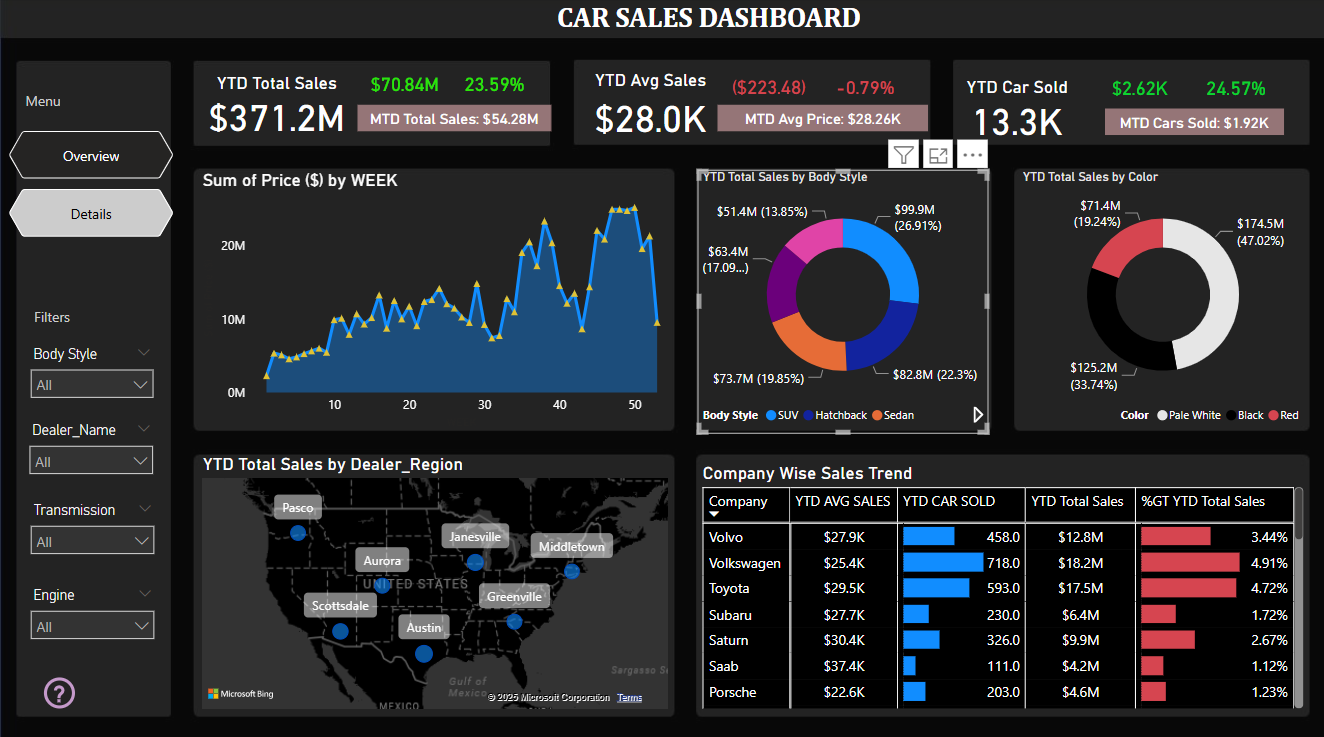

The page's visual inventory and layout, read from the dashboard file:
{"tool":"powerbi","page":{"name":"Overview","canvas":[1280,720],"ordinal":0},"visuals":[{"type":"textbox","box":[414.4,0,540.7,48],"z":0},{"type":"card","title":"YTD Total Sales","fields":{"Values":["car_data.YTD Total Sales"]},"box":[190.6,73.6,153.2,62.7],"z":1000},{"type":"slicer","fields":{"Values":["car_data.Body Style"]},"box":[19.3,331.8,138.7,56.7],"z":2000},{"type":"slicer","fields":{"Values":["car_data.Dealer_Name"]},"box":[18.1,405.4,139.9,62.7],"z":3000},{"type":"slicer","fields":{"Values":["car_data.Transmission"]},"box":[19.3,482.6,139.9,62.7],"z":4000},{"type":"slicer","fields":{"Values":["car_data.Engine"]},"box":[19.3,564.6,139.9,62.7],"z":5000},{"type":"donutChart","fields":{"Category":["car_data.Body Style"],"Y":["car_data.YTD Total Sales"]},"box":[673.2,167.7,281.1,254.6],"z":6000},{"type":"donutChart","fields":{"Y":["car_data.YTD Total Sales"],"Category":["car_data.Color"]},"box":[982,167.7,281.1,254.6],"z":7000},{"type":"card","fields":{"Values":["car_data.Sales Diff"]},"box":[352.3,71.2,77.2,25.3],"z":8000},{"type":"card","fields":{"Values":["car_data.yoy sales growth"]},"box":[439.1,71.2,76,25.3],"z":9000},{"type":"card","fields":{"Values":["car_data.MTD combine"]},"box":[345,105,187,25.3],"z":10000},{"type":"card","title":"YTD Avg Sales","fields":{"Values":["car_data.YTD AVG SALES"]},"box":[556.2,71.2,143.6,68.8],"z":11000},{"type":"card","fields":{"Values":["car_data.average sales diff"]},"box":[699.5,73.1,84.8,31.3],"z":12000},{"type":"card","fields":{"Values":["car_data.yoy avg growth"]},"box":[800.5,73.4,69.8,25.7],"z":13000},{"type":"card","fields":{"Values":["car_data.MTD AVG COMBINE"]},"box":[692.8,105.3,203.2,25.7],"z":14000},{"type":"card","title":"YTD Car Sold","fields":{"Values":["car_data.YTD CAR SOLD"]},"box":[918,77.1,127.3,62.4],"z":15000},{"type":"card","fields":{"Values":["car_data.CAR SOLD DIFF"]},"box":[1061.2,73.4,77.1,31.8],"z":16000},{"type":"card","fields":{"Values":["car_data.YOY CAR SOLD GROWTH"]},"box":[1153,73.4,79.6,31.8],"z":17000},{"type":"card","fields":{"Values":["car_data.MTD CAR SOLD COMBINE"]},"box":[1066.5,108.6,172.5,25.3],"z":18000},{"type":"pivotTable","title":"Company Wise Sales Trend","fields":{"Rows":["car_data.Company"],"Values":["car_data.YTD AVG SALES","car_data.YTD CAR SOLD","car_data.YTD Total Sales","Divide(car_data.YTD Total Sales, ScopedEval(car_data.YTD Total Sales, []))"]},"box":[672.6,450.1,590.1,242.5],"z":19000},{"type":"map","fields":{"Category":["car_data.Dealer_Region"],"Size":["car_data.YTD Total Sales"]},"box":[190,441.3,458.8,251.3],"z":20000},{"type":"areaChart","fields":{"Category":["calendar table.WEEK"],"Y":["Sum(car_data.Price ($))"]},"box":[190,167.5,458.8,255.1],"z":21000},{"type":"actionButton","box":[37.5,652.6,100,40],"z":22000},{"type":"pageNavigator","box":[8.4,130.3,159.3,103.8],"z":23000},{"type":"textbox","box":[27.7,295.6,74.8,30.2],"z":24000},{"type":"textbox","box":[8.4,86.9,74.8,33.8],"z":25000}]}

Visuals, with their boxes in screenshot pixels (x1, y1, x2, y2), scaled from the page's 1280x720 canvas onto the 1324x737 screenshot:
textbox: bbox=(429, 0, 988, 49)
"YTD Total Sales" card: bbox=(197, 75, 356, 140)
slicer - car_data.Body Style: bbox=(20, 340, 163, 398)
slicer - car_data.Dealer_Name: bbox=(19, 415, 163, 479)
slicer - car_data.Transmission: bbox=(20, 494, 165, 558)
slicer - car_data.Engine: bbox=(20, 578, 165, 642)
donutChart - car_data.Body Style x car_data.YTD Total Sales: bbox=(696, 172, 987, 432)
donutChart - car_data.YTD Total Sales x car_data.Color: bbox=(1016, 172, 1307, 432)
card - car_data.Sales Diff: bbox=(364, 73, 444, 99)
card - car_data.yoy sales growth: bbox=(454, 73, 533, 99)
card - car_data.MTD combine: bbox=(357, 107, 550, 133)
"YTD Avg Sales" card: bbox=(575, 73, 724, 143)
card - car_data.average sales diff: bbox=(724, 75, 811, 107)
card - car_data.yoy avg growth: bbox=(828, 75, 900, 101)
card - car_data.MTD AVG COMBINE: bbox=(717, 108, 927, 134)
"YTD Car Sold" card: bbox=(950, 79, 1081, 143)
card - car_data.CAR SOLD DIFF: bbox=(1098, 75, 1177, 108)
card - car_data.YOY CAR SOLD GROWTH: bbox=(1193, 75, 1275, 108)
card - car_data.MTD CAR SOLD COMBINE: bbox=(1103, 111, 1282, 137)
"Company Wise Sales Trend" pivotTable: bbox=(696, 461, 1306, 709)
map - car_data.Dealer_Region x car_data.YTD Total Sales: bbox=(197, 452, 671, 709)
areaChart - calendar table.WEEK x Sum(car_data.Price ($)): bbox=(197, 171, 671, 433)
actionButton: bbox=(39, 668, 142, 709)
pageNavigator: bbox=(9, 133, 173, 240)
textbox: bbox=(29, 303, 106, 333)
textbox: bbox=(9, 89, 86, 124)
